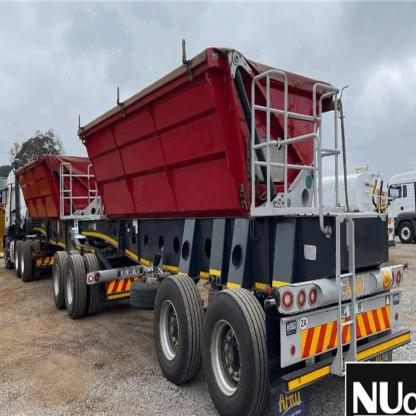dump_truck: (3, 42, 410, 415)
